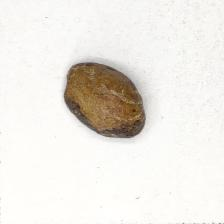NG: (65, 94, 145, 139)
